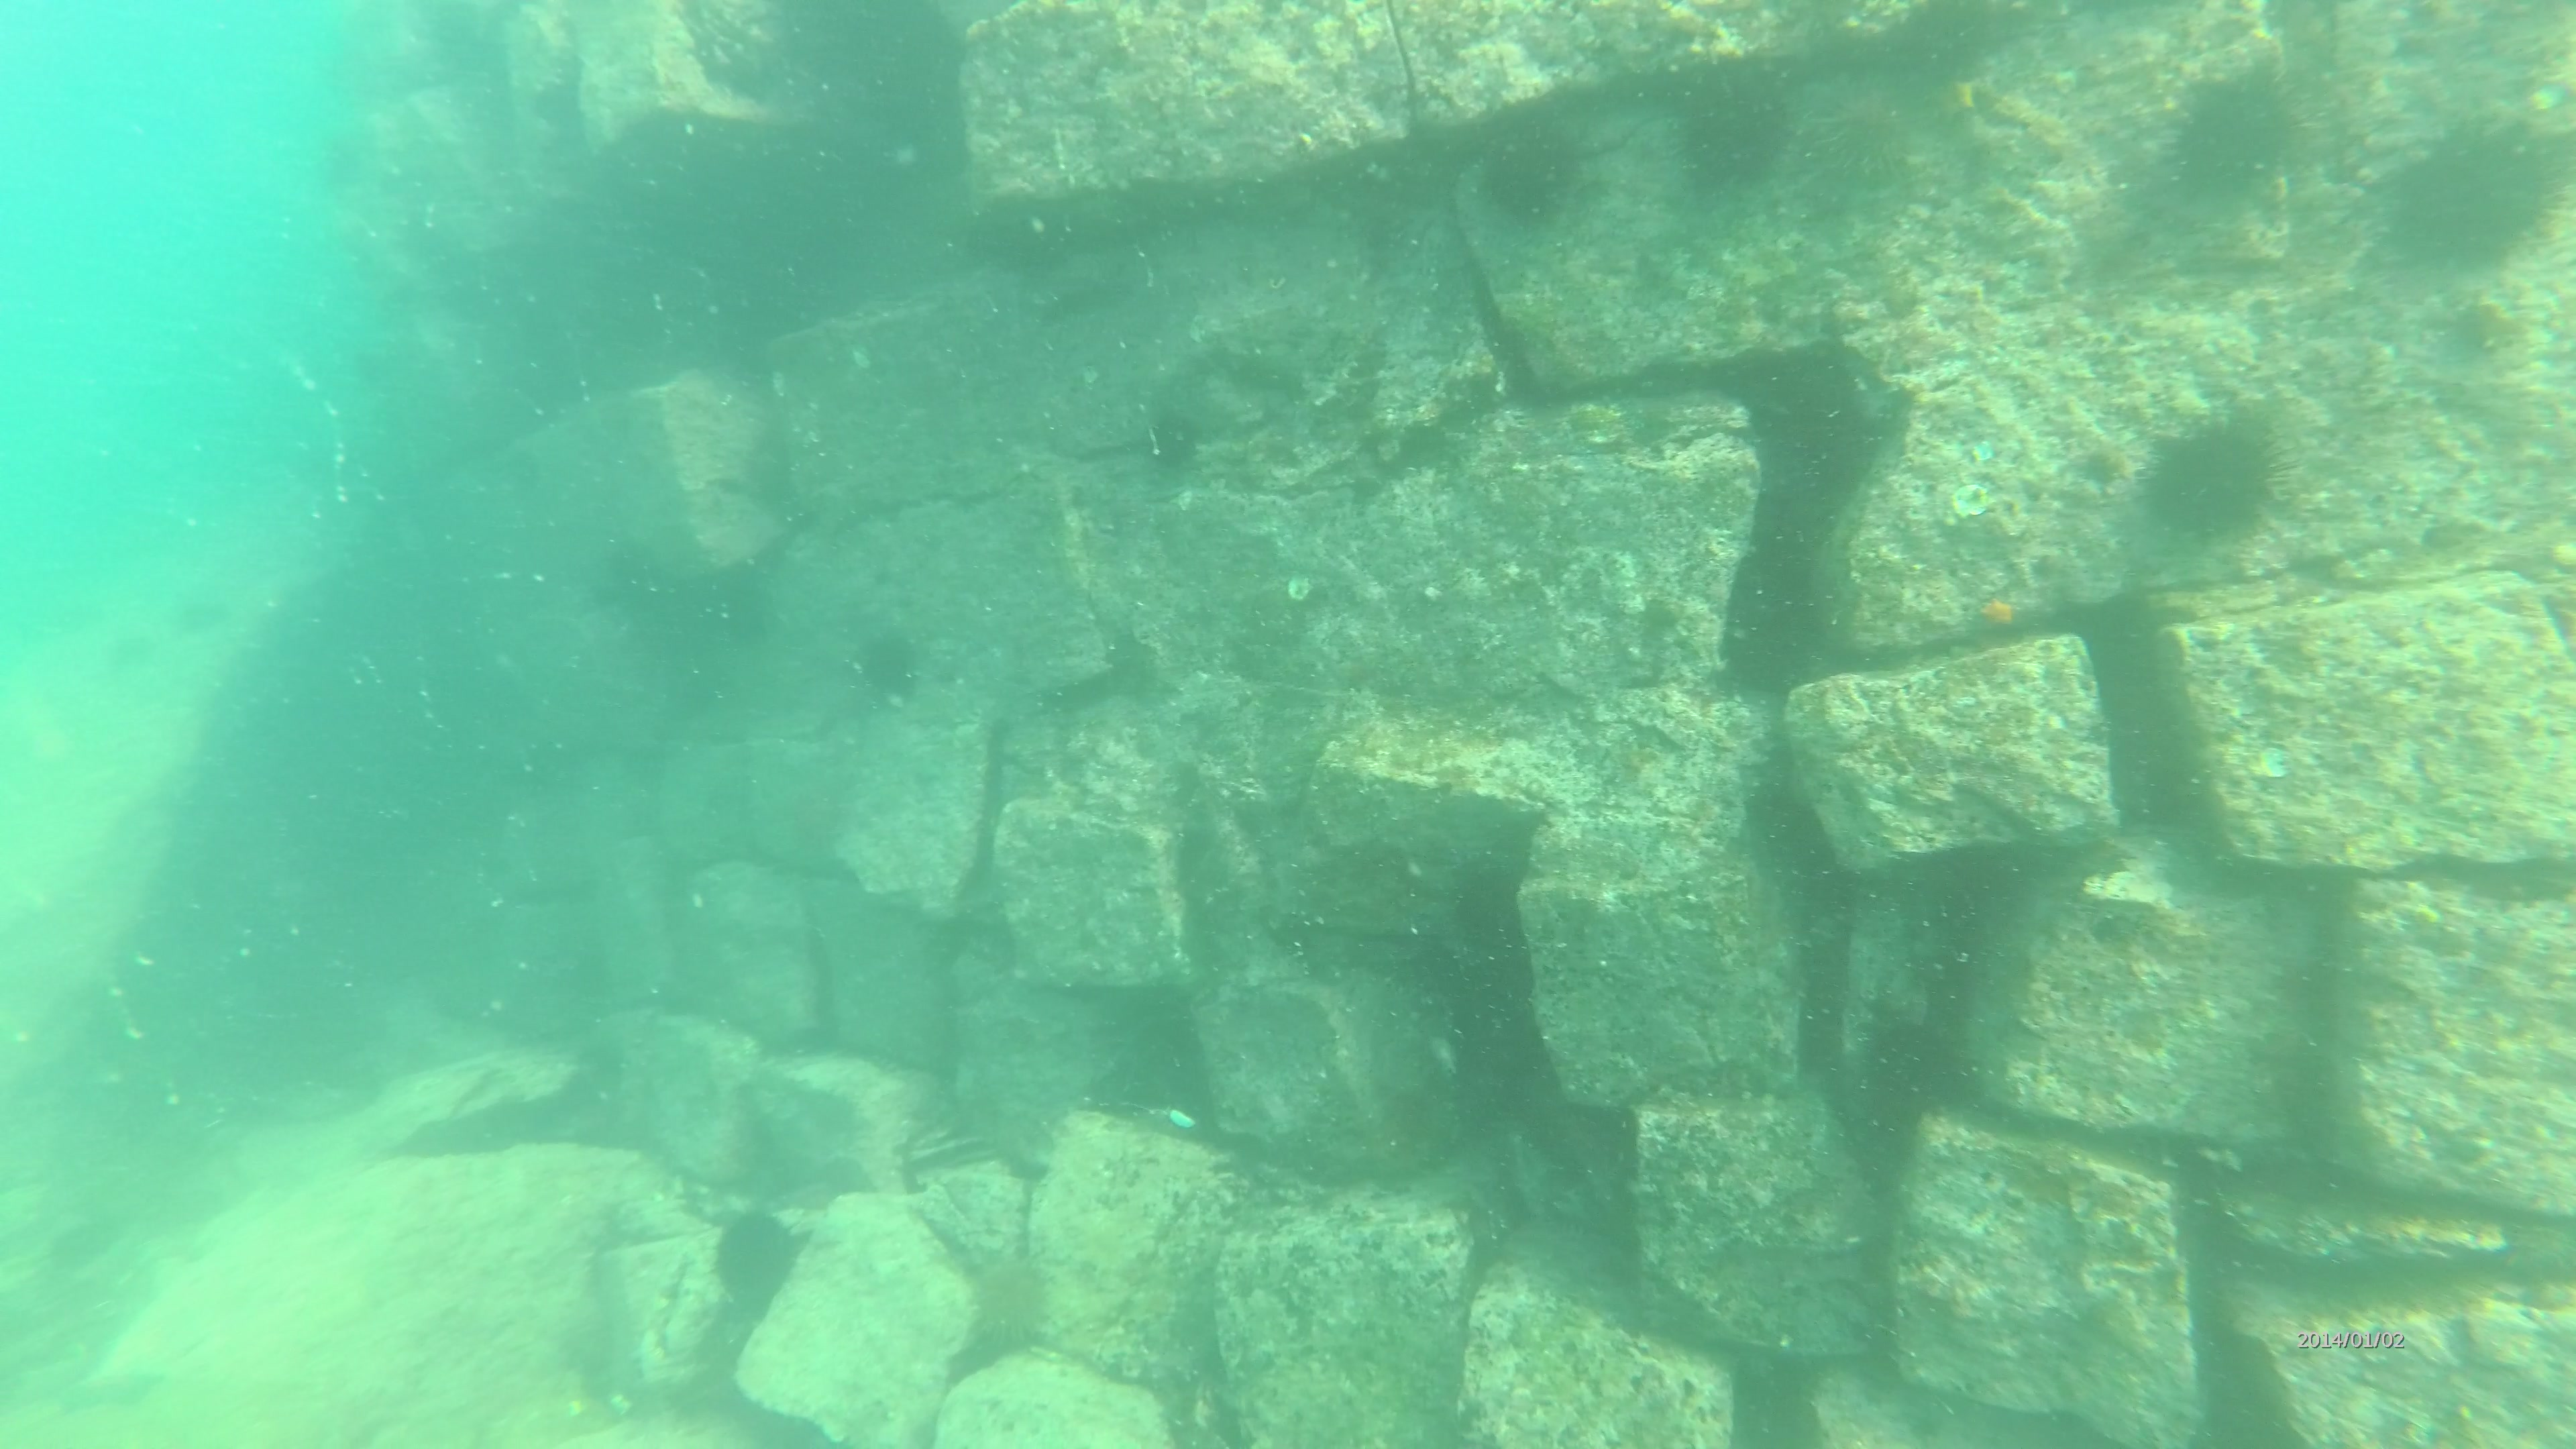echinus: (2404, 126, 2541, 269), (2137, 412, 2288, 538), (2173, 73, 2286, 193), (1691, 80, 1787, 196), (697, 1212, 812, 1300), (1470, 133, 1578, 226), (853, 632, 924, 701), (1138, 428, 1189, 479)
